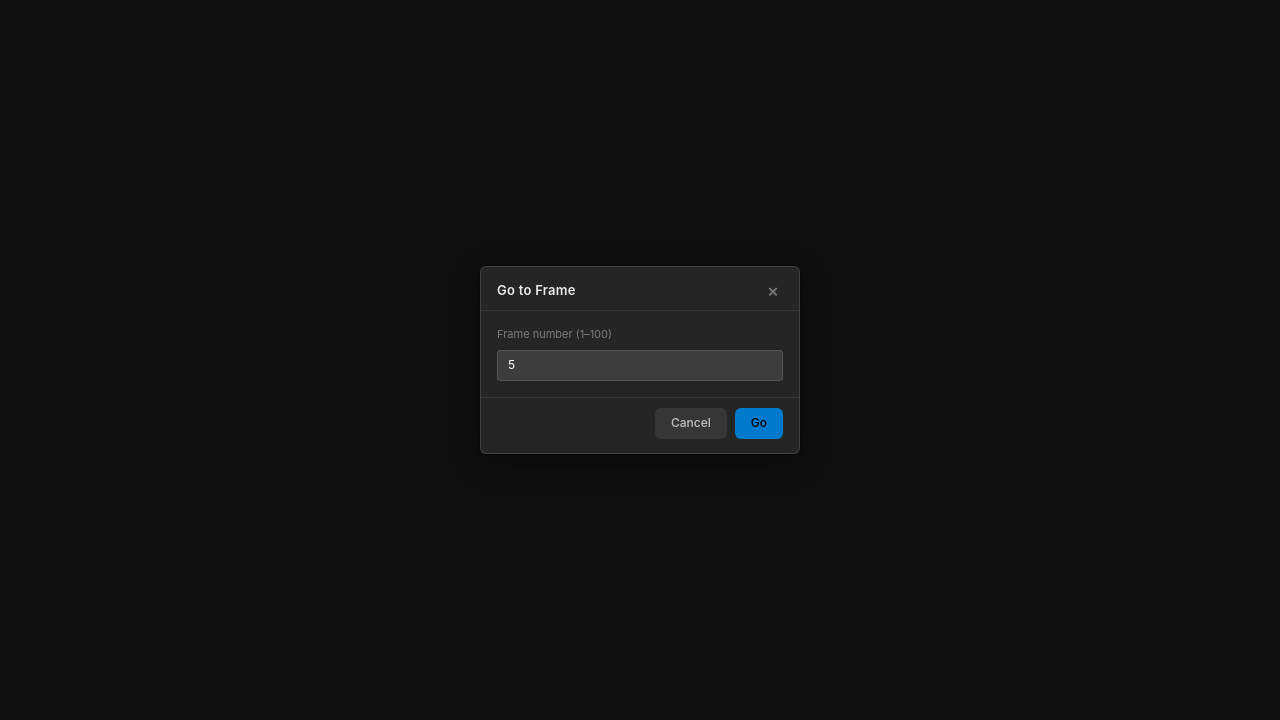
Test case: GoToFrameDialog › shows error for frame number 0
Step 1. Replace the text in the number field with "0" → (640, 365), box [497, 350, 783, 381]
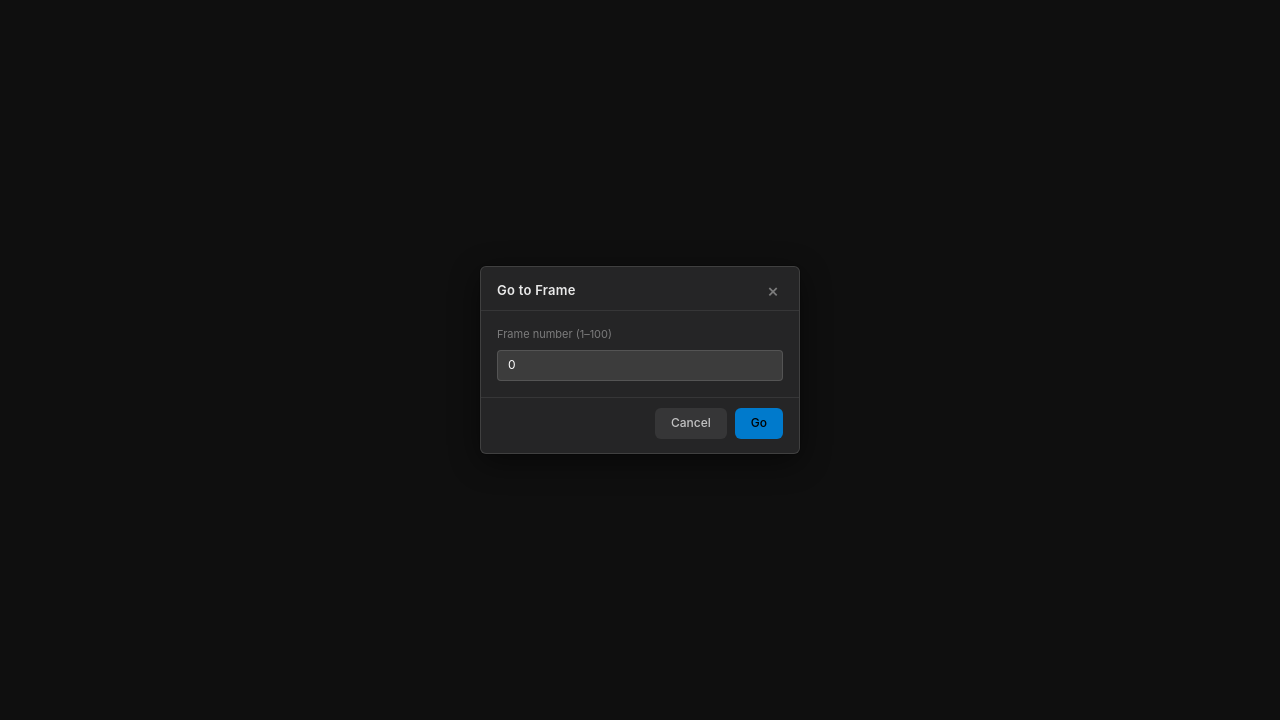
Step 2. Click the button "Go" → (759, 423), box [735, 408, 783, 439]
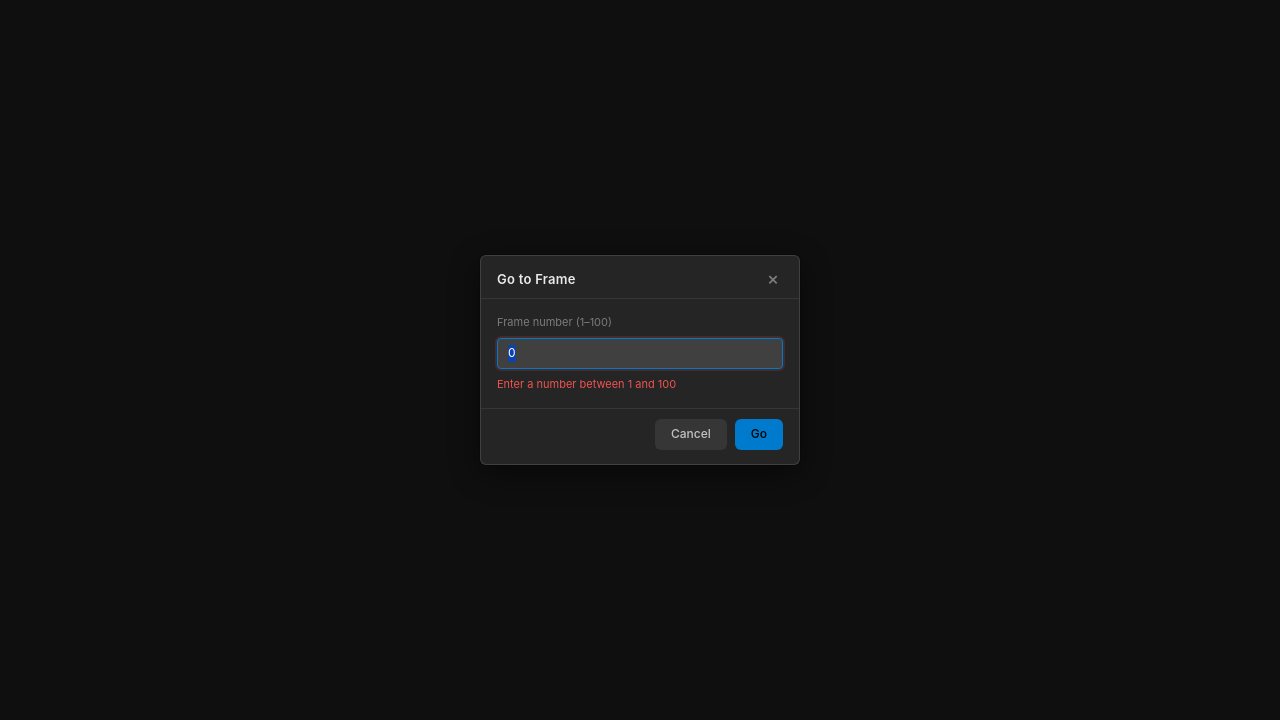
Check: the message "Enter a number between 1 and 100" is shown, box [497, 377, 676, 391]
